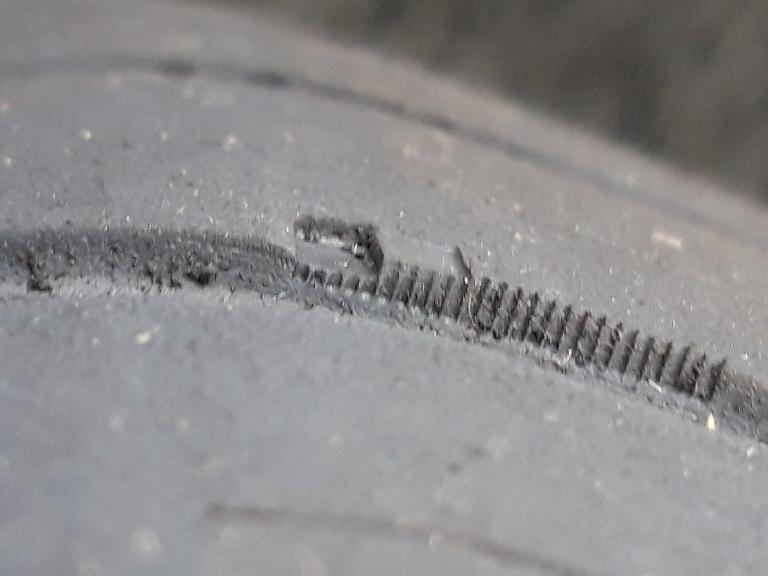temoin:25: (278, 202, 486, 340)
